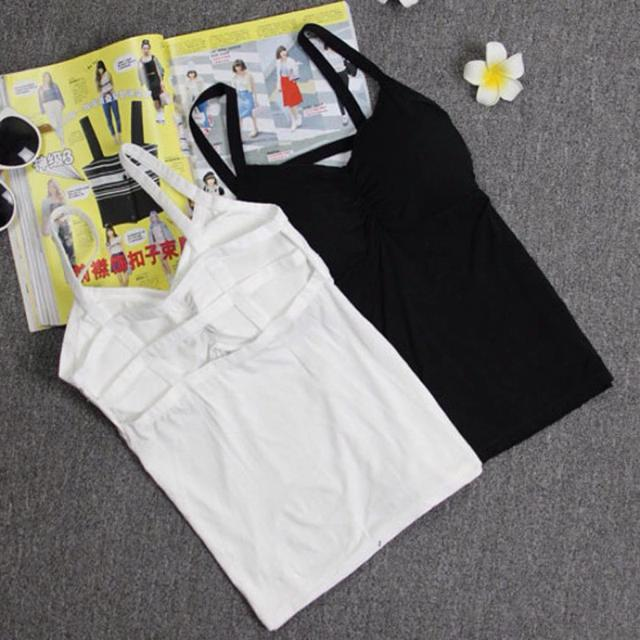Tops: (51, 152, 481, 629)
